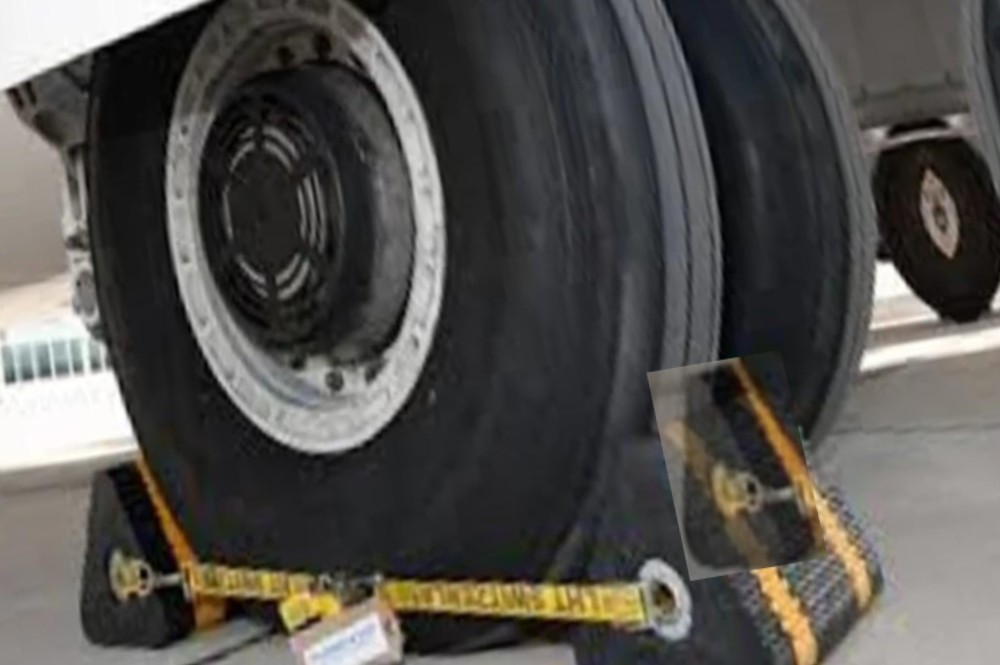chock: (521, 372, 922, 665), (645, 349, 831, 583), (57, 447, 207, 660)
wheel: (23, 0, 836, 665), (589, 0, 932, 465), (858, 140, 969, 329), (920, 129, 1000, 319)
